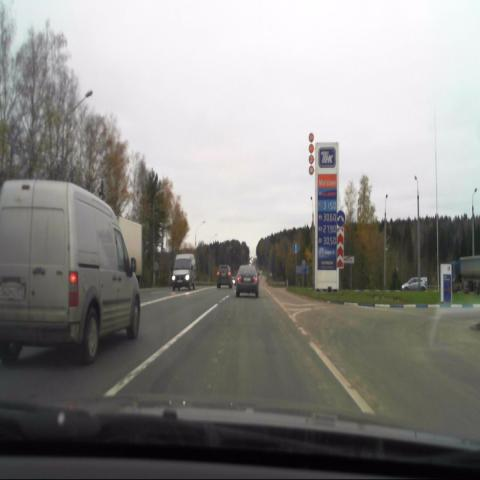4_1_1: (292, 241, 300, 254)
4_2_3: (335, 210, 346, 229)
